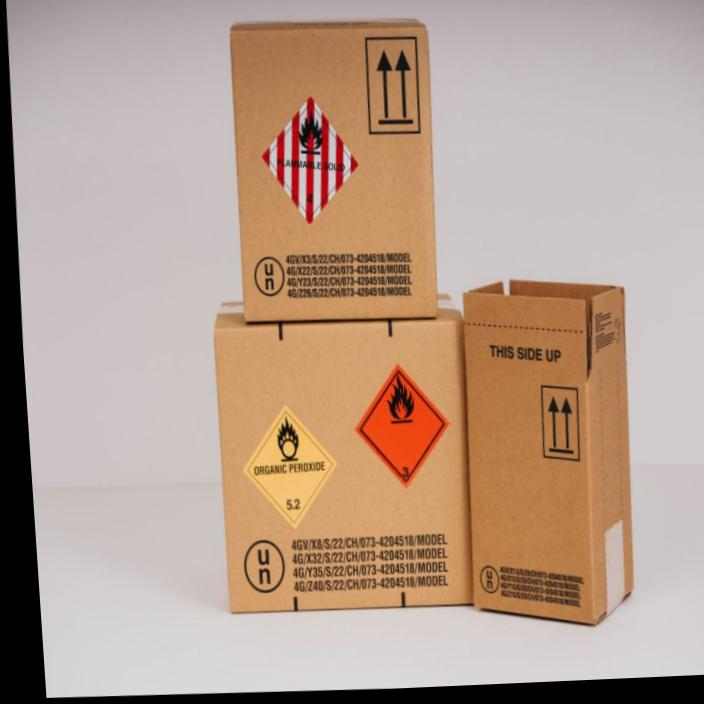can and bottle trash cans: (356, 365, 448, 486)
chair: (262, 97, 357, 224)
defibrillator: (244, 406, 336, 527)
